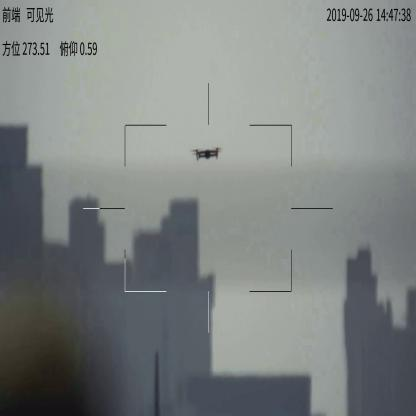uav: (190, 142, 224, 163)
